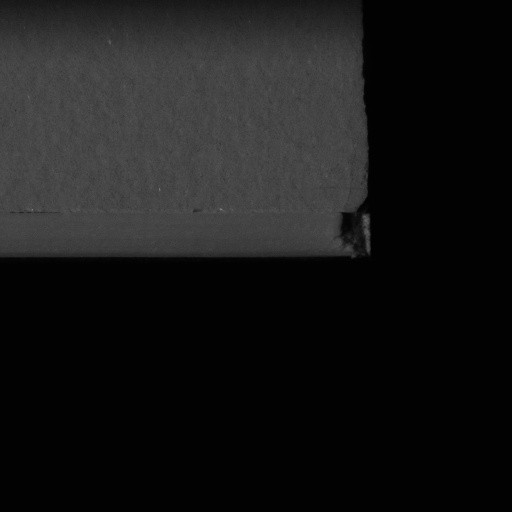bengque: (337, 195, 371, 259)
